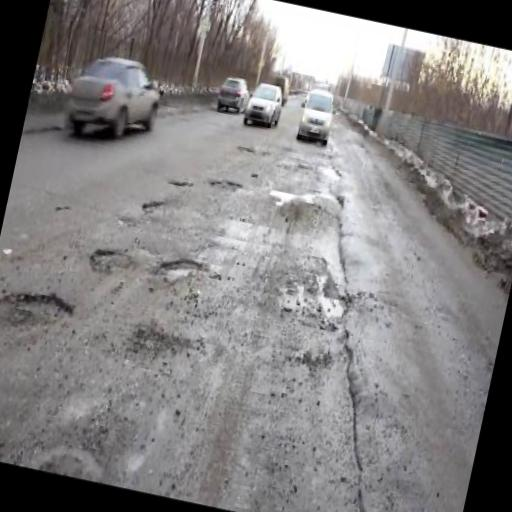pothole: (0, 276, 77, 338), (128, 320, 178, 364), (156, 246, 206, 288), (84, 236, 126, 280), (207, 170, 247, 199), (140, 190, 166, 216), (168, 174, 196, 190)
